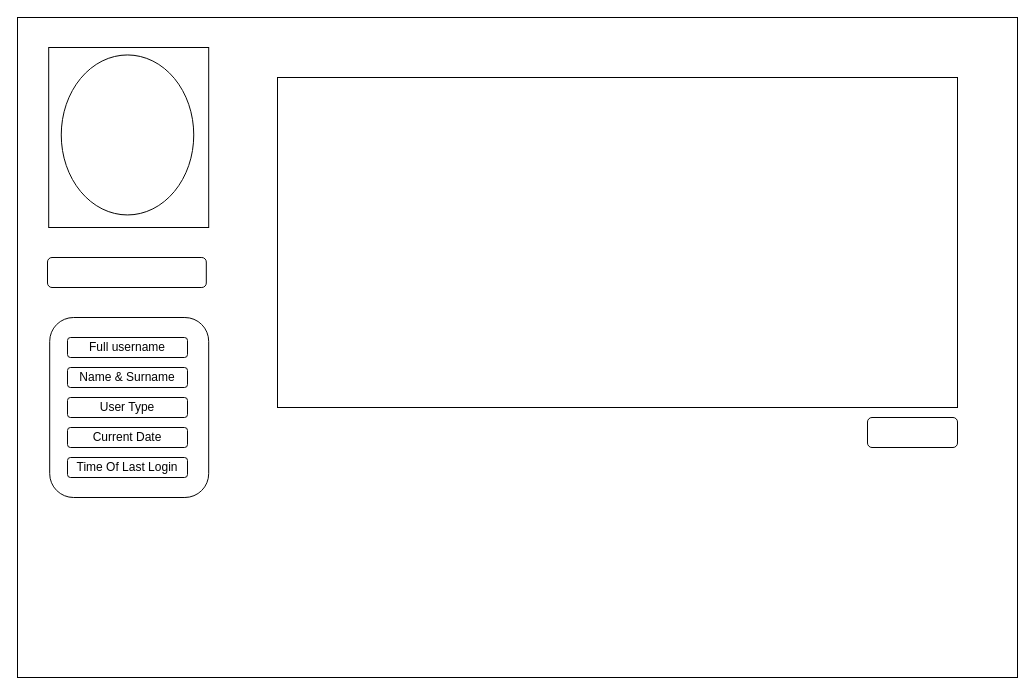
Some shapes in this 1035 by 695 pixel diagram are drawn without their labels. The shapes that lost their labels are listed below. From the top down, each one's centre as x and y in pixels, then its label:
the point at 126,272: Date
the point at 912,432: Search
